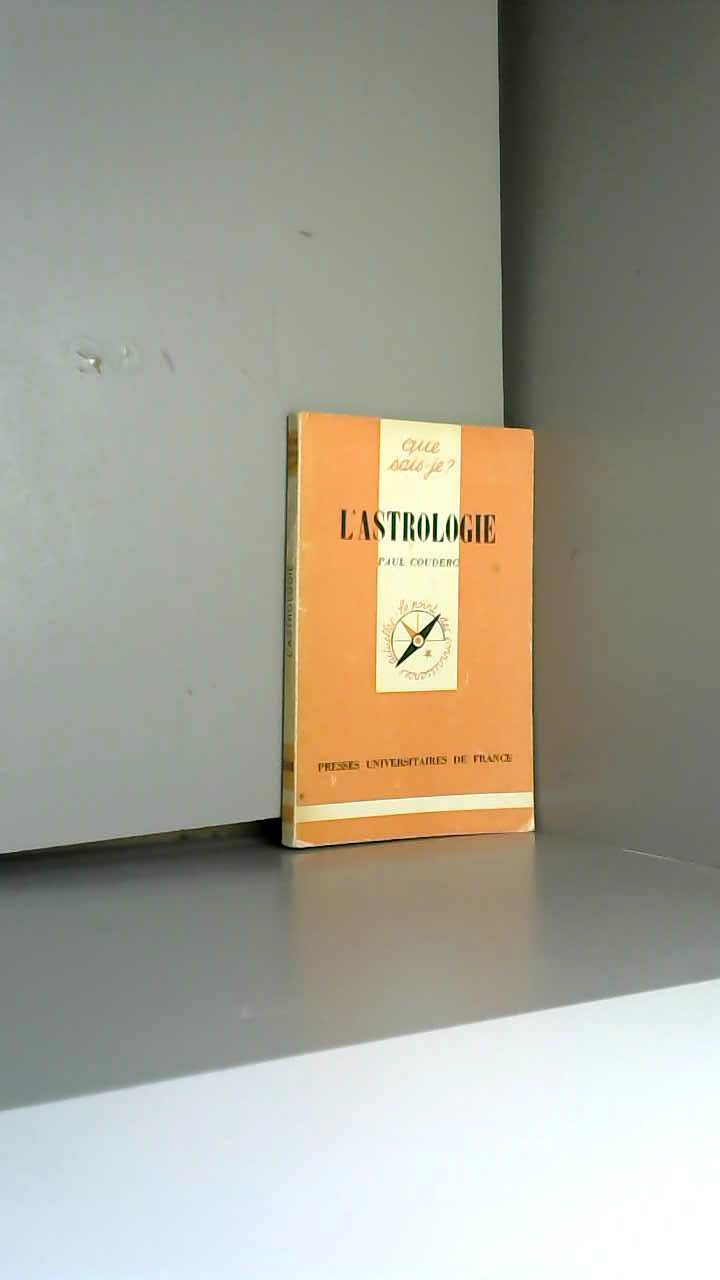book: (250, 379, 573, 893)
